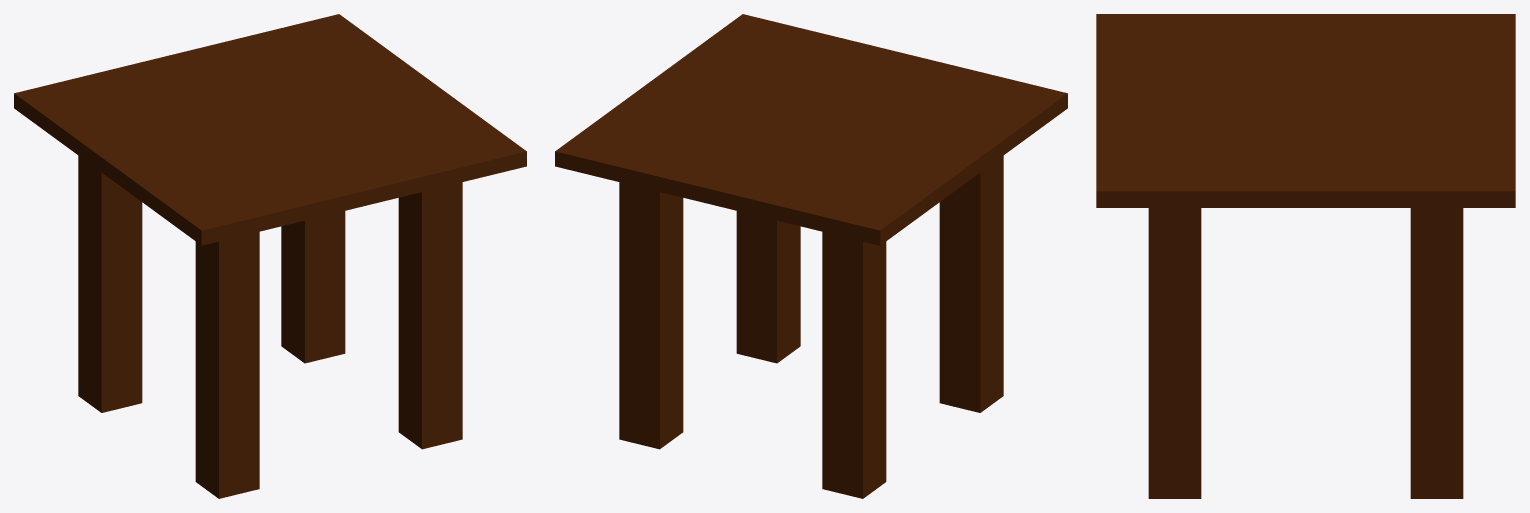
Rendered from Stool.fbx.
3 views of the same model, side by side, from view 1: azimuth 30°, elevation 25°; view 2: azimuth 150°, elevation 25°; view 3: azimuth 270°, elevation 25° (orthographic). The views are drawn at different scales.
Visible parts, largest first — view 1: Cube.006; view 2: Cube.006; view 3: Cube.006.
Part boxes in pixels (x1,y1,x2,y2): Cube.006: (14,14,526,498); Cube.006: (555,14,1067,498); Cube.006: (1096,14,1515,498).
Bounding box in the file's own units: 58.14 × 50.48 × 58.14.
